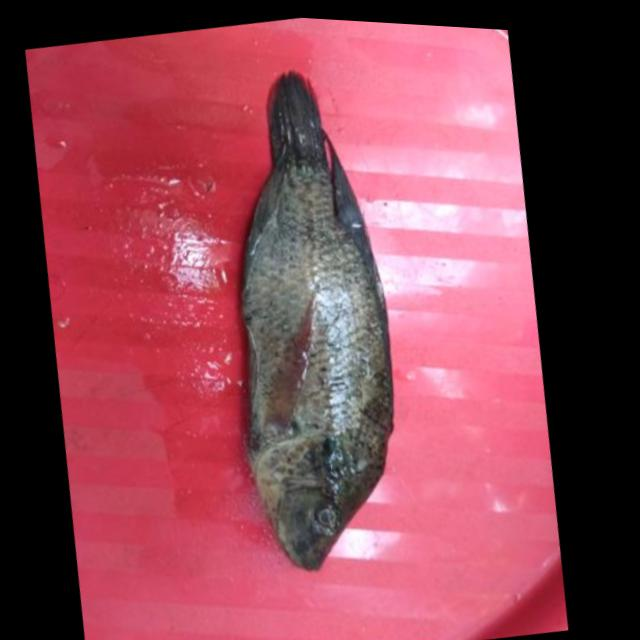Tilapia: (180, 57, 452, 584)
